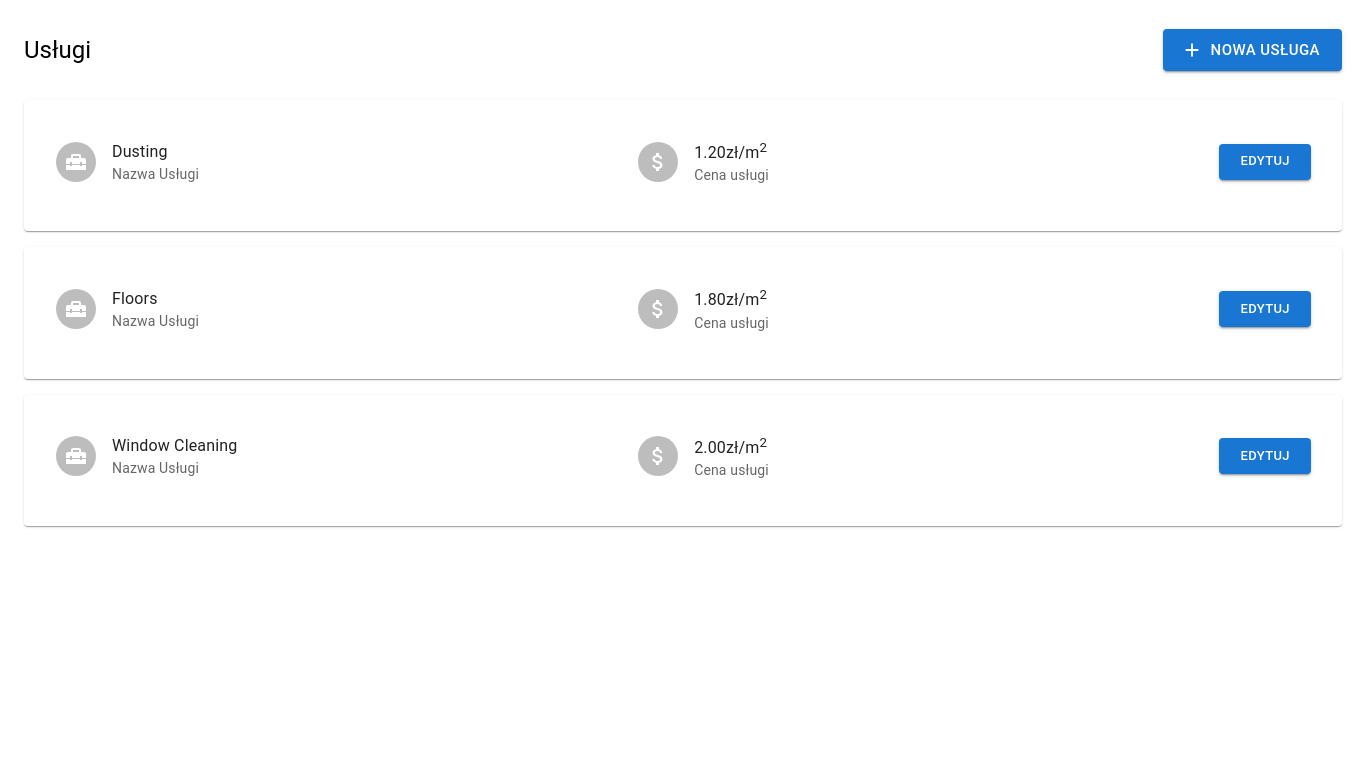
Scenario: ServiceList tests › Creation of new service is enabled when the name and price is present
Click the button "Nowa Usługa" at (1252, 50), box [1163,29,1342,71]
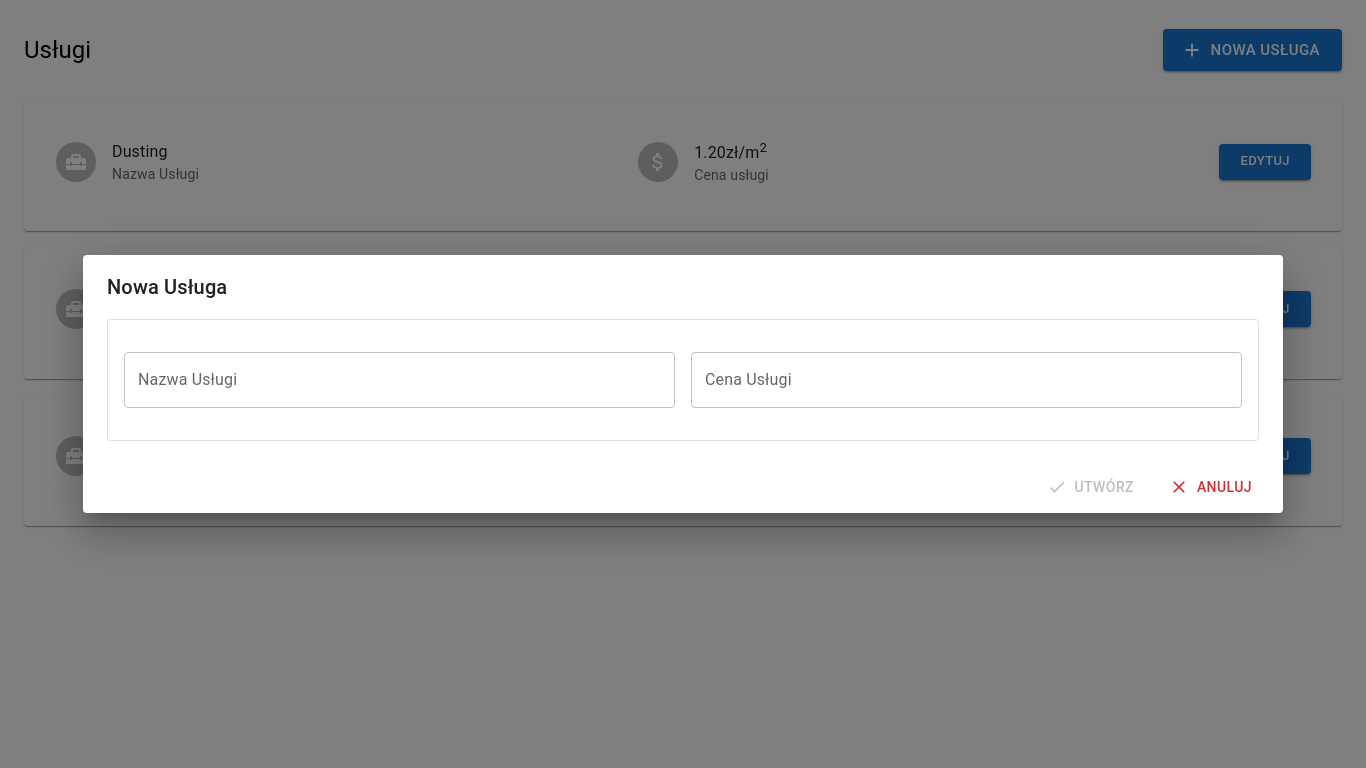
Type "Cleaning" into the field labelled "Nazwa Usługi" at (400, 380), box [124,352,675,408]
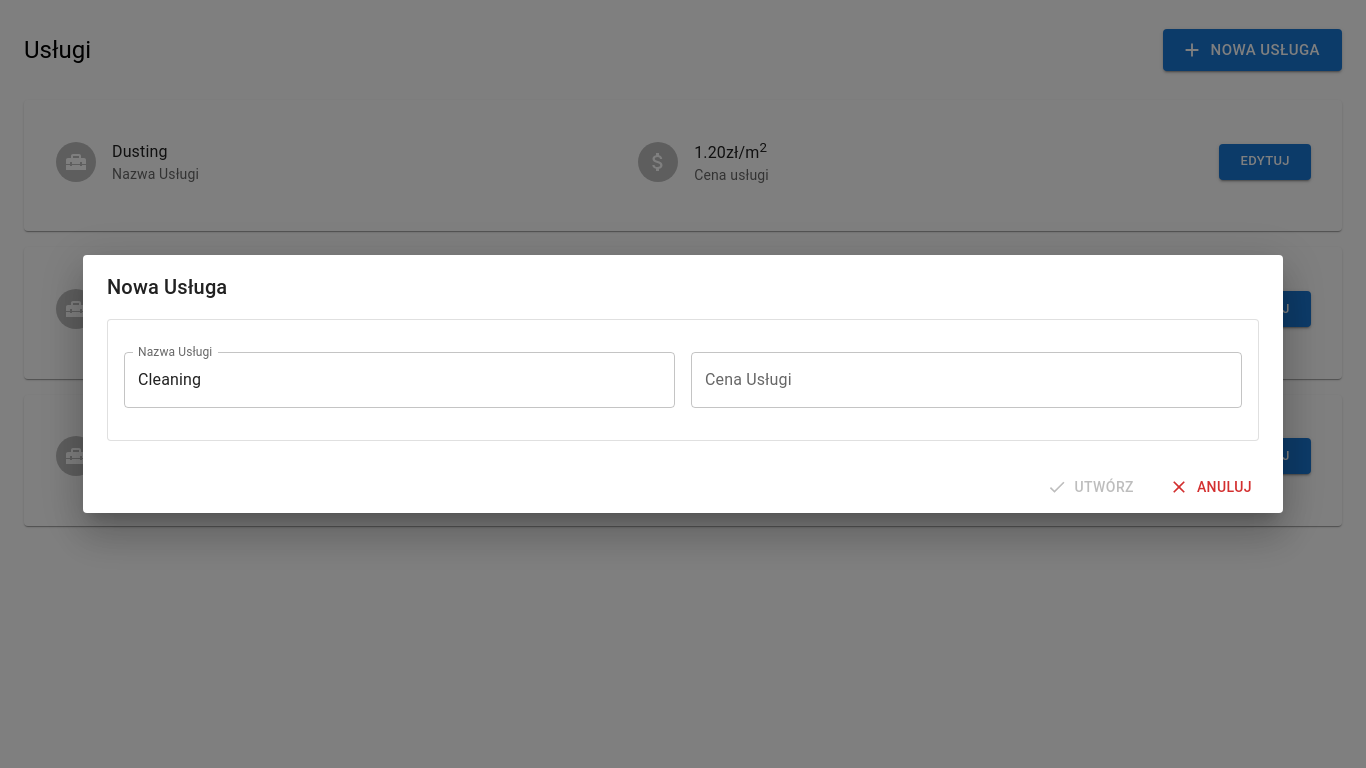
Type "1.4" into the number field labelled "Cena Usługi" at (966, 380), box [691,352,1242,408]
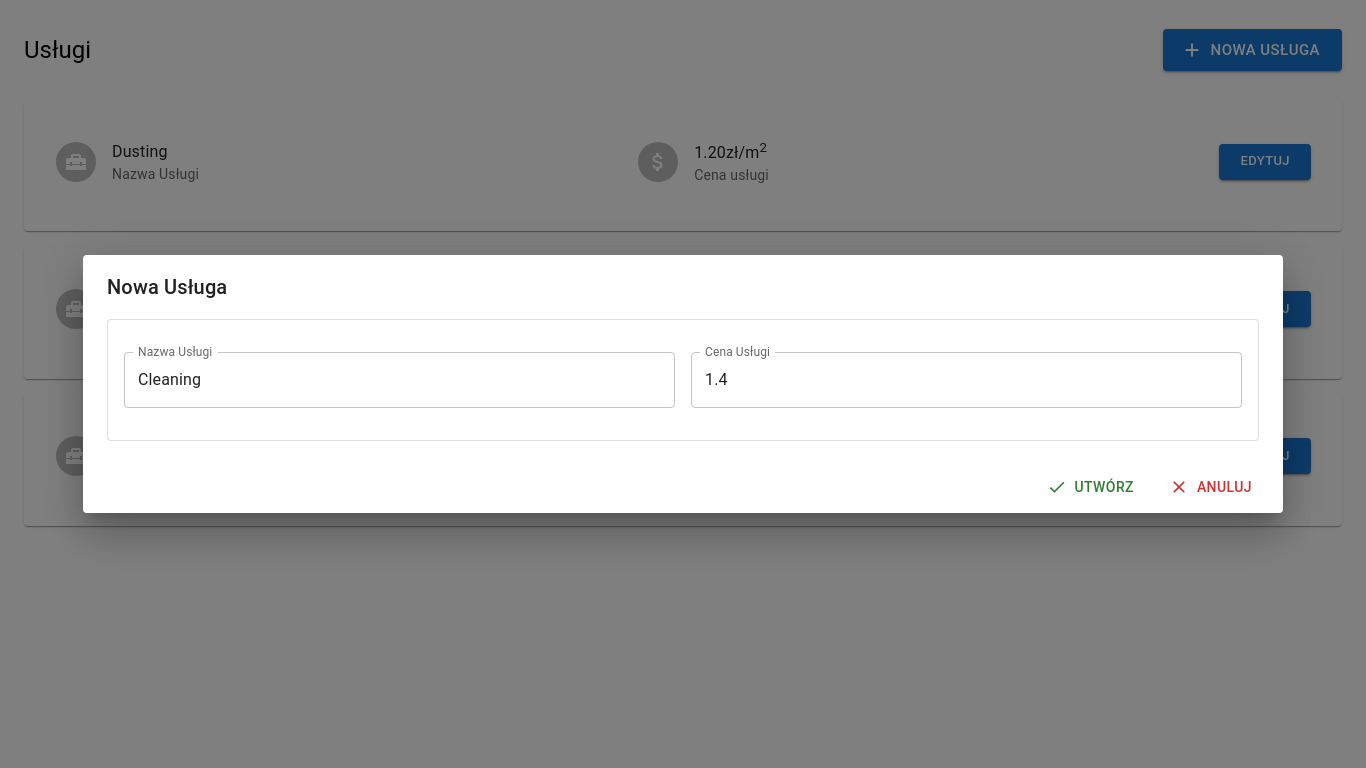
Expected: the button "Utwórz" is enabled, [1043,469,1142,505]
